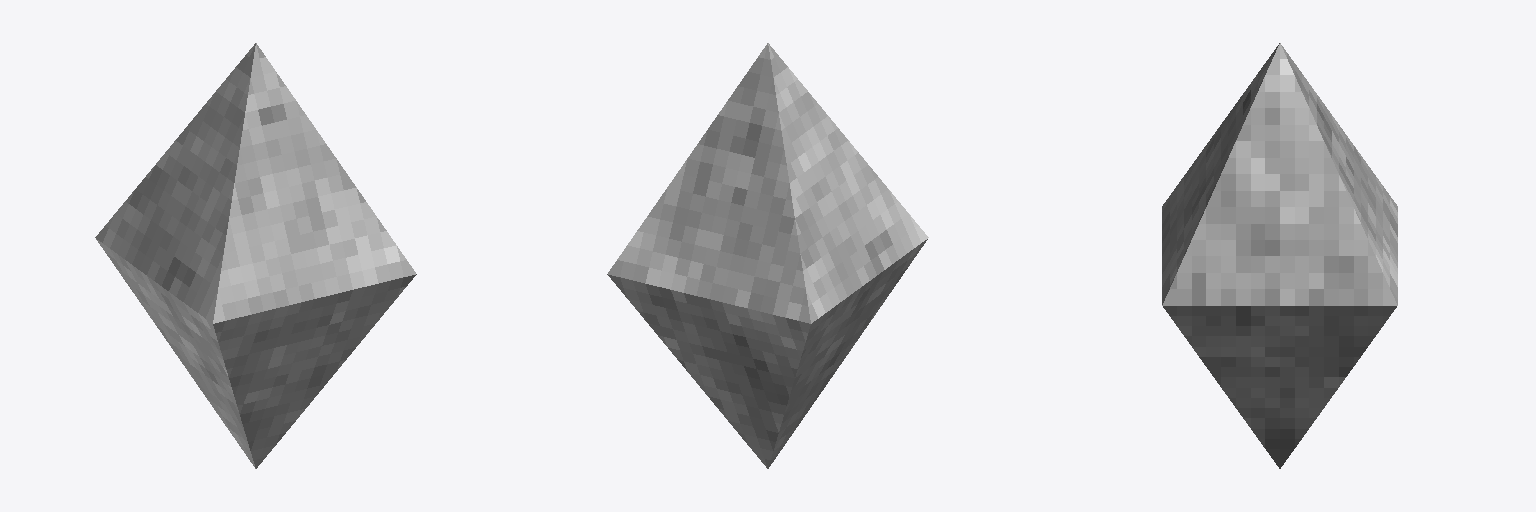
The picture shows the model from 3 angles: view 1: azimuth 30°, elevation 25°; view 2: azimuth 150°, elevation 25°; view 3: azimuth 270°, elevation 25°; orthographic projection.
Parts seen in each view (by area): view 1: Gem; view 2: Gem; view 3: Gem.
Boxes of the visible parts, box(x1,y1,x2,y2) form: Gem: box(95, 43, 416, 468); Gem: box(607, 43, 928, 468); Gem: box(1162, 43, 1397, 468).
Bounding box in the file's own units: 1 × 2 × 1.
Materials: 1 (1 with a texture image).